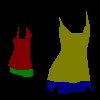canottiera: (46, 10, 90, 83), (8, 24, 32, 70)
gonna: (46, 80, 93, 94), (9, 66, 33, 77)
